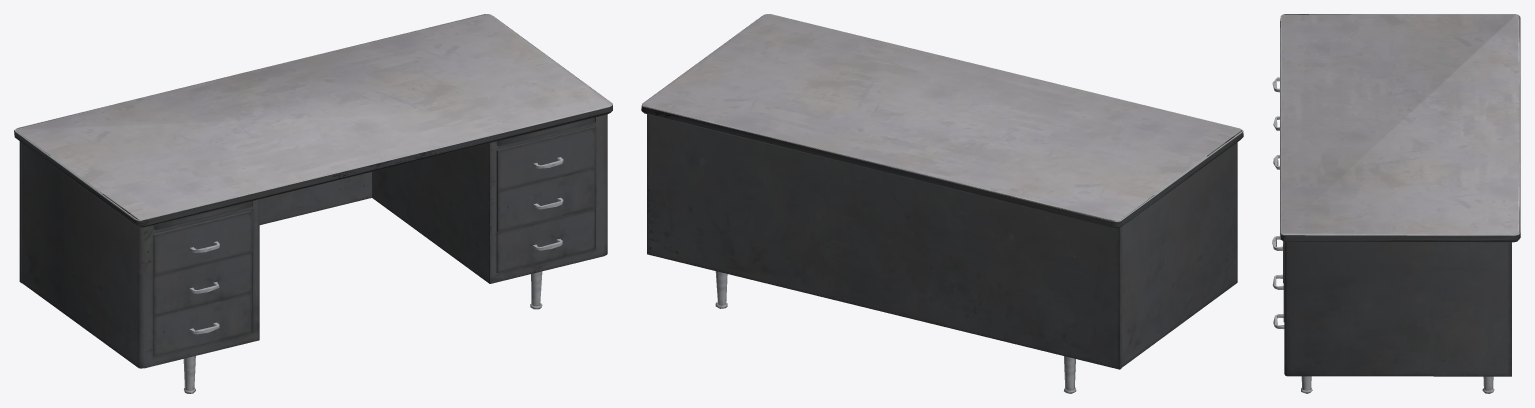
File: metal_office_desk.glb
3 views of the same model, side by side, from view 1: azimuth 30°, elevation 25°; view 2: azimuth 150°, elevation 25°; view 3: azimuth 270°, elevation 25° (orthographic). The views are drawn at different scales.
Parts seen in each view (by area): view 1: metal_office_desk_drawer_06; view 2: metal_office_desk_drawer_06; view 3: metal_office_desk_drawer_06.
Boxes of the visible parts, x1,y1,x2,y2 form: metal_office_desk_drawer_06: (14,14,612,393); metal_office_desk_drawer_06: (641,14,1243,393); metal_office_desk_drawer_06: (1272,14,1520,393).
Bounding box in the file's own units: 2 × 0.7875 × 0.9463.
1 material, 1 textured.
